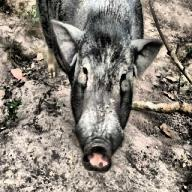boar: (33, 0, 161, 172)
